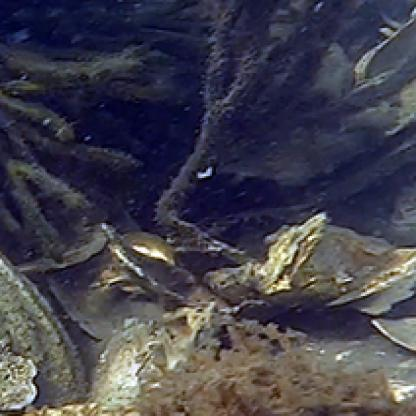3: (189, 82, 416, 223), (253, 217, 330, 294)
Oyster-Open: (0, 251, 91, 407), (86, 319, 171, 413), (0, 352, 38, 411)
